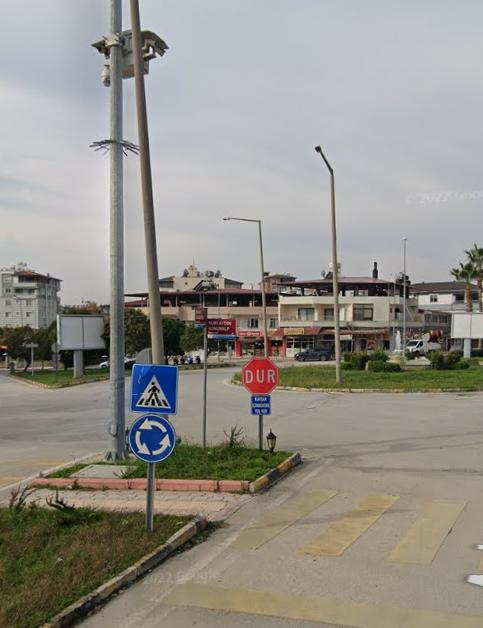stop: (243, 358, 279, 393)
